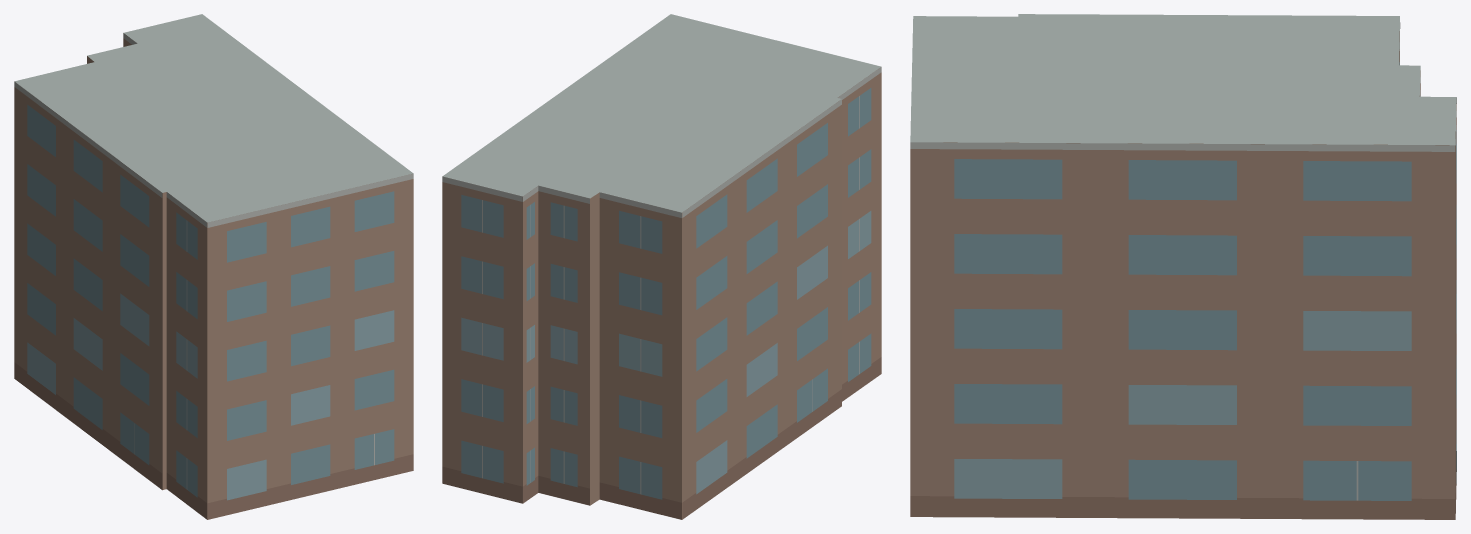
File: survey-upis-32630244.glb
3 renders of one model, left to right at view 1: azimuth 30°, elevation 25°; view 2: azimuth 150°, elevation 25°; view 3: azimuth 270°, elevation 25°, orthographic. The views are drawn at different scales.
Parts seen in each view (by area): view 1: survey-upis-32630244.tmp; view 2: survey-upis-32630244.tmp; view 3: survey-upis-32630244.tmp.
Part boxes in pixels (x1,y1,x2,y2): survey-upis-32630244.tmp: (14, 14, 413, 519); survey-upis-32630244.tmp: (442, 14, 881, 519); survey-upis-32630244.tmp: (910, 14, 1456, 519).
Bounding box in the file's own units: 10.1 × 13.45 × 17.78.
